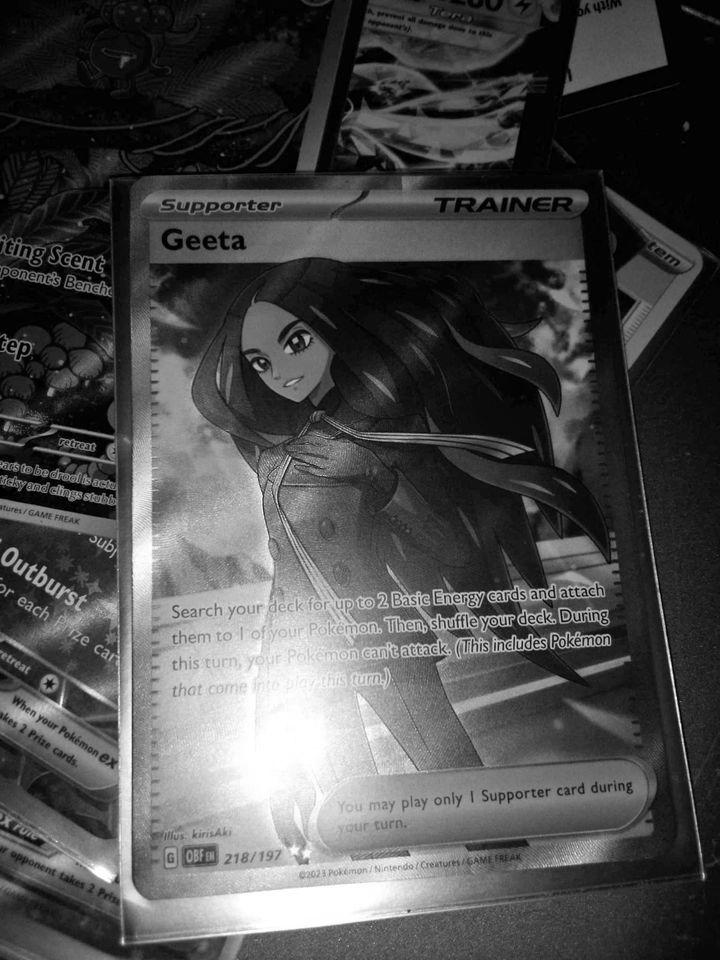card: (128, 173, 682, 902)
